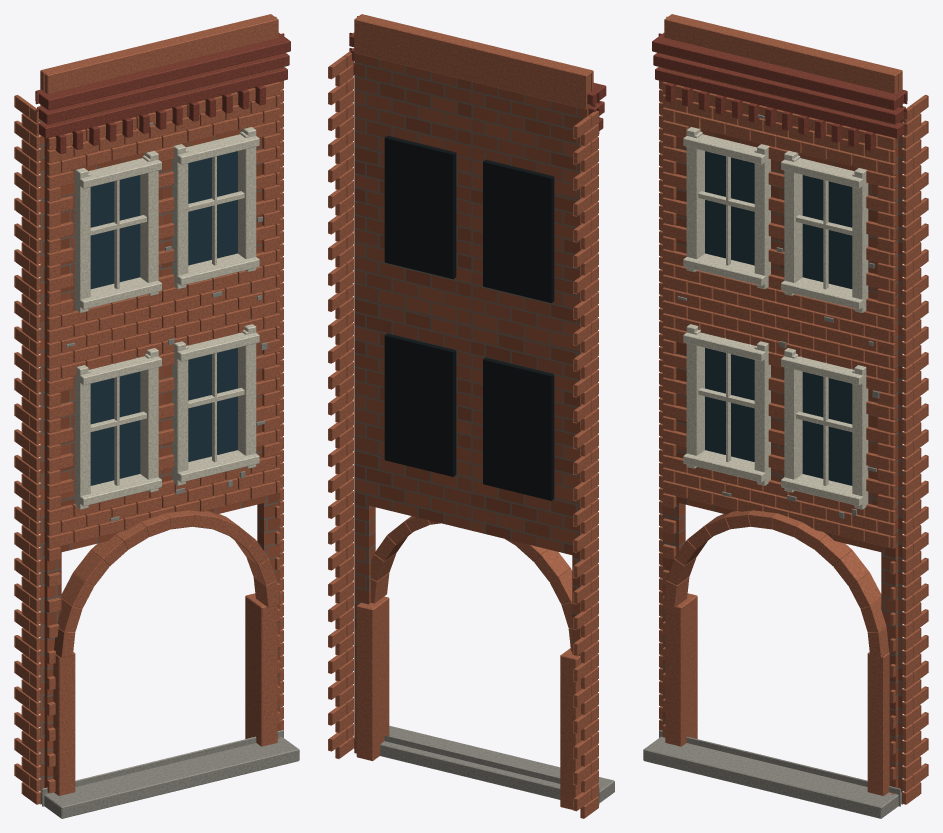
The model's file is VICT27_lod0.glb.
The picture shows the model from 3 angles, left to right: view 1: azimuth 30°, elevation 25°; view 2: azimuth 150°, elevation 25°; view 3: azimuth 330°, elevation 25°; orthographic projection.
Parts seen in each view (by area): view 1: VICT27_FRONT_LOD0; view 2: VICT27_FRONT_LOD0; view 3: VICT27_FRONT_LOD0.
Boxes of the visible parts, x1=… form: VICT27_FRONT_LOD0: x1=14, y1=14, x2=299, y2=818; VICT27_FRONT_LOD0: x1=328, y1=14, x2=614, y2=818; VICT27_FRONT_LOD0: x1=643, y1=14, x2=928, y2=818.
Bounding box in the file's own units: 3.44 × 9.66 × 1.02.
Materials: 10 (8 with a texture image).
